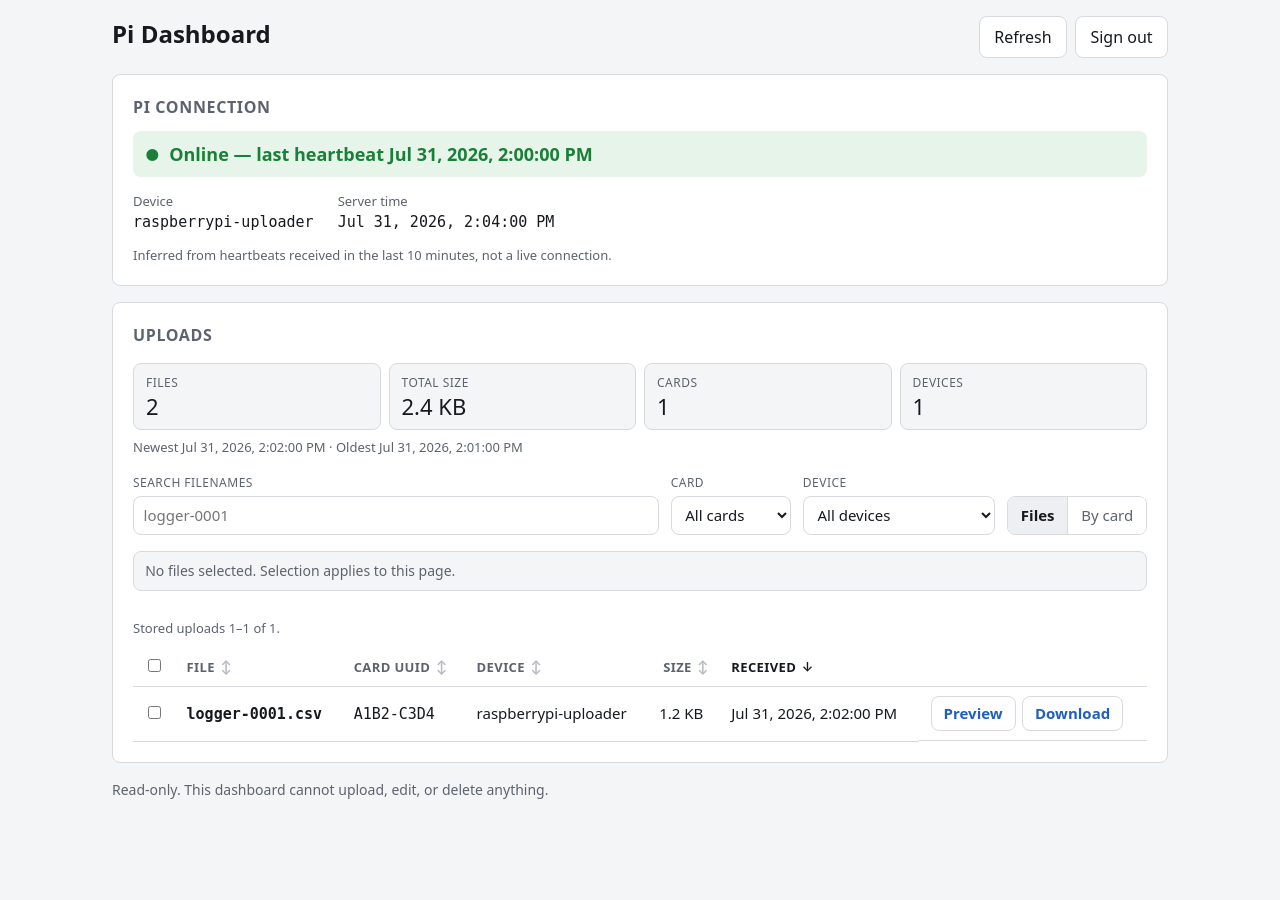
Test: filtering › clears every filter at once
In the search field labelled "Search filenames": (396, 515) x1=133 y1=496 x2=659 y2=535, type "logger"
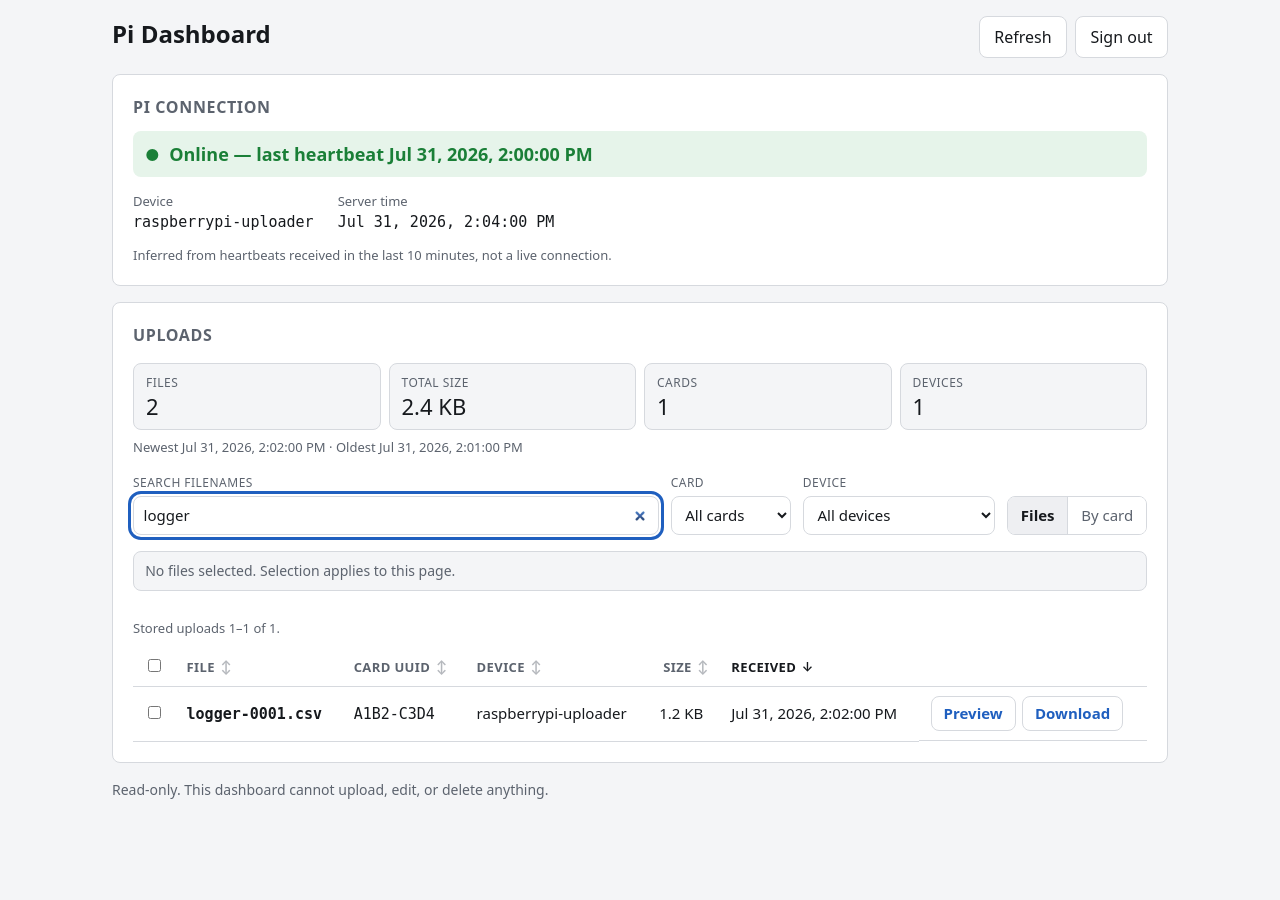
Select "5678-EF01" in the dropdown labelled "Card": (731, 516) x1=671 y1=496 x2=791 y2=535
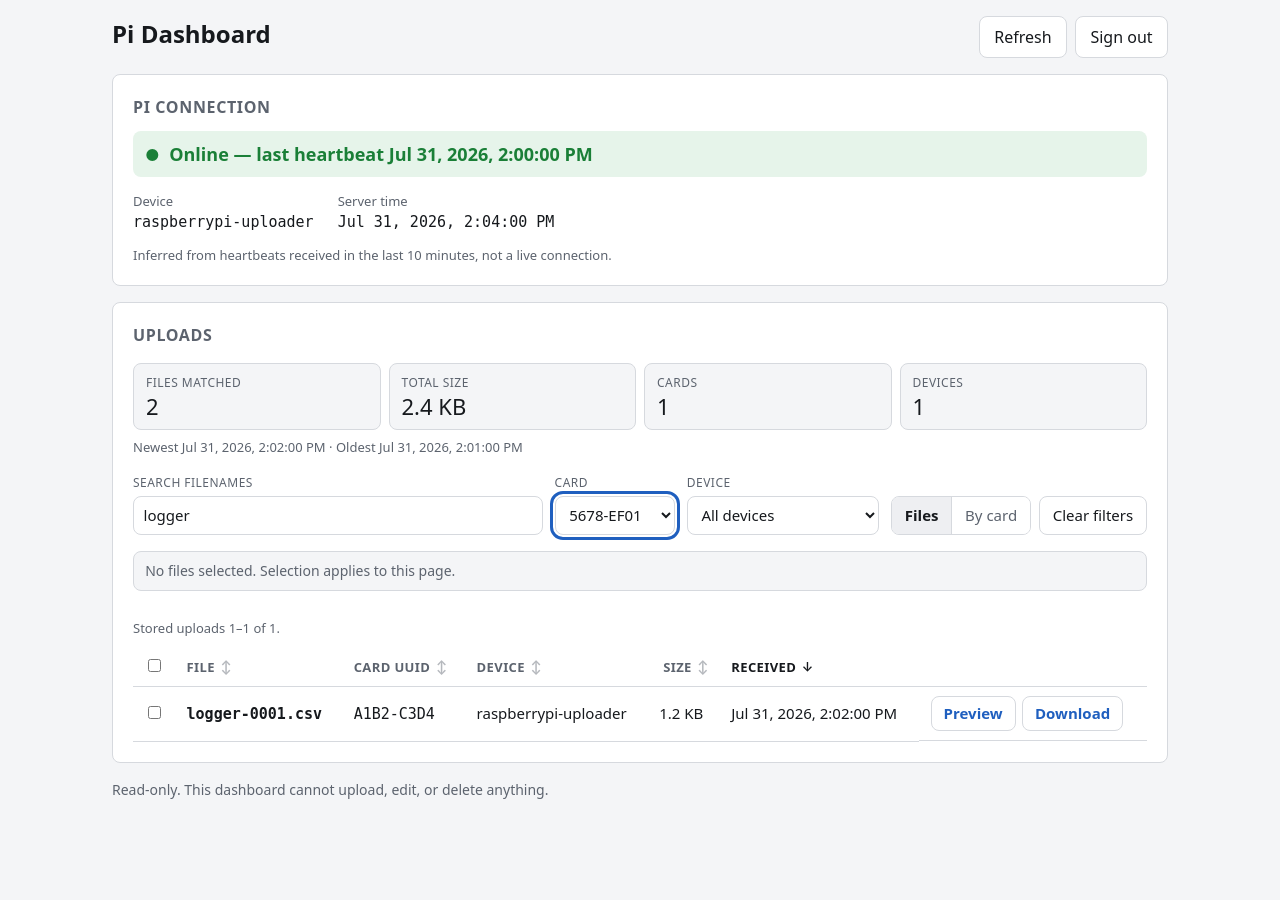
Click the button "Clear filters": (1093, 515) x1=1039 y1=496 x2=1147 y2=535
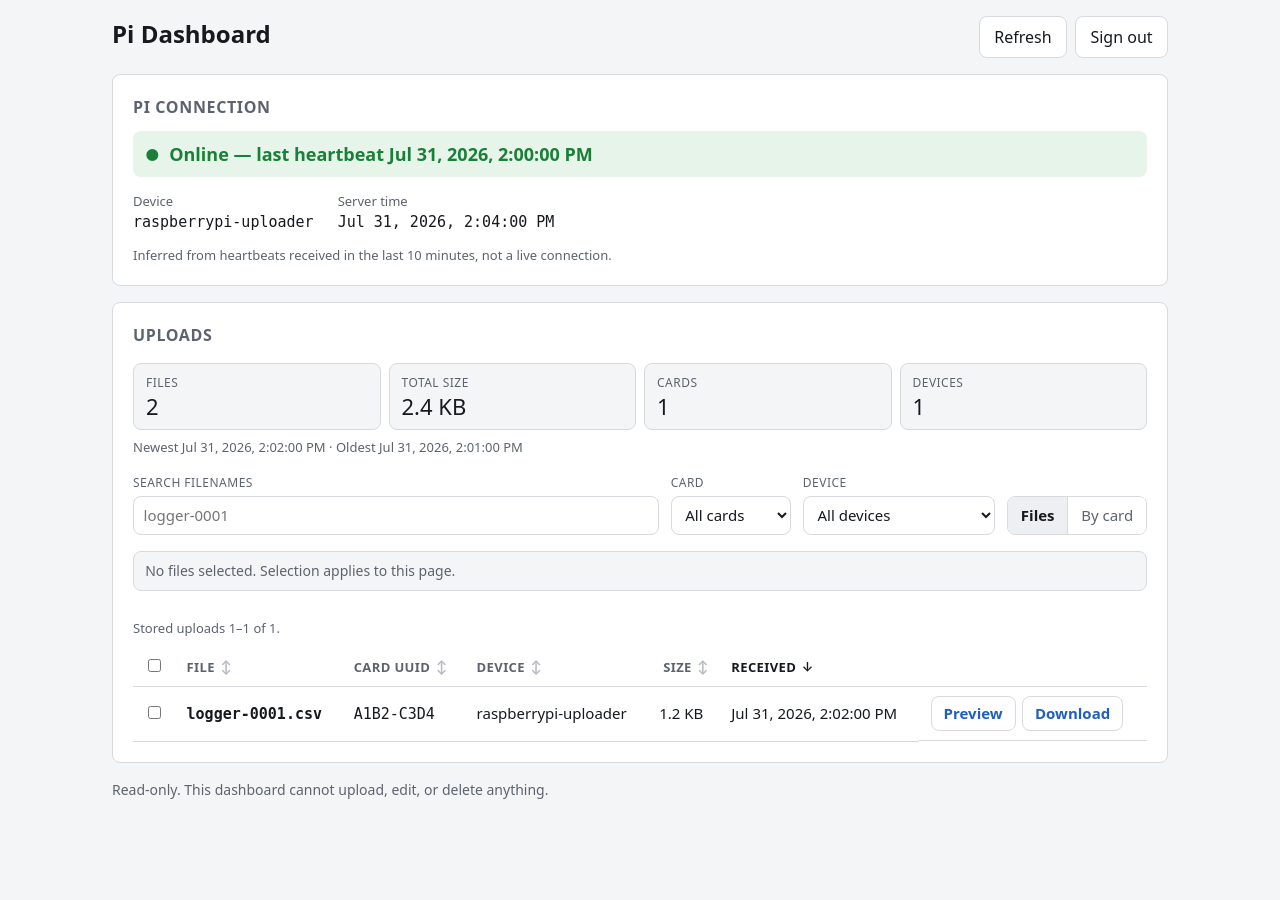
Result: the search field labelled "Search filenames" is empty at x1=133 y1=496 x2=659 y2=535
